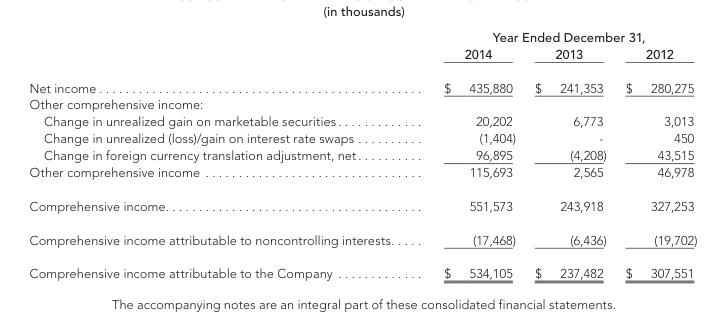table: (28, 29, 696, 280)
table column: (28, 29, 418, 280), (418, 29, 524, 280), (524, 29, 615, 280), (615, 29, 696, 280)
table column header: (28, 29, 696, 70)
table projected row header: (28, 95, 696, 112)
table row: (28, 188, 696, 222), (28, 222, 696, 256), (28, 45, 696, 70), (28, 70, 696, 95), (28, 163, 696, 188), (28, 256, 696, 280), (28, 95, 696, 112), (28, 112, 696, 129), (28, 129, 696, 146), (28, 146, 696, 163), (28, 29, 696, 45)
table spanning cell: (418, 29, 696, 45)
